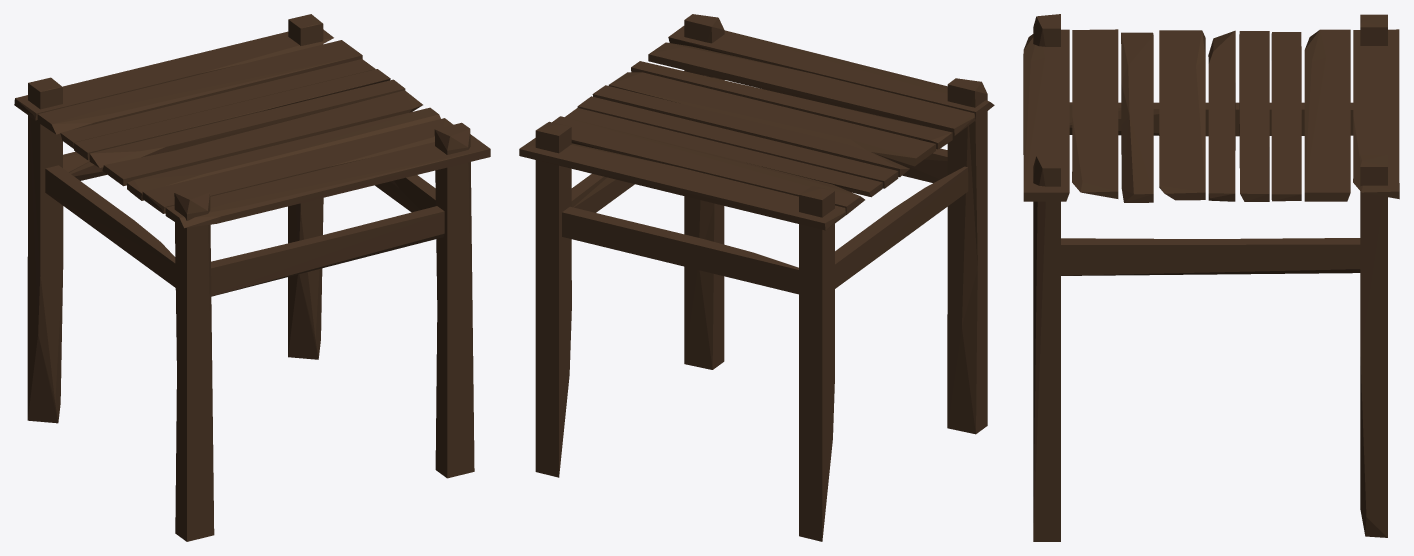
Rendered from SM_platform_wooden_port.fbx.
The picture shows the model from 3 angles, left to right: view 1: azimuth 30°, elevation 25°; view 2: azimuth 150°, elevation 25°; view 3: azimuth 270°, elevation 25°; orthographic projection. The views are drawn at different scales.
Visible parts, largest first — view 1: Object565; view 2: Object565; view 3: Object565.
Boxes of the visible parts, x1=… form: Object565: x1=14, y1=14, x2=490, y2=541; Object565: x1=519, y1=14, x2=994, y2=541; Object565: x1=1023, y1=14, x2=1399, y2=541.
Bounding box in the file's own units: 127 × 135 × 123.
